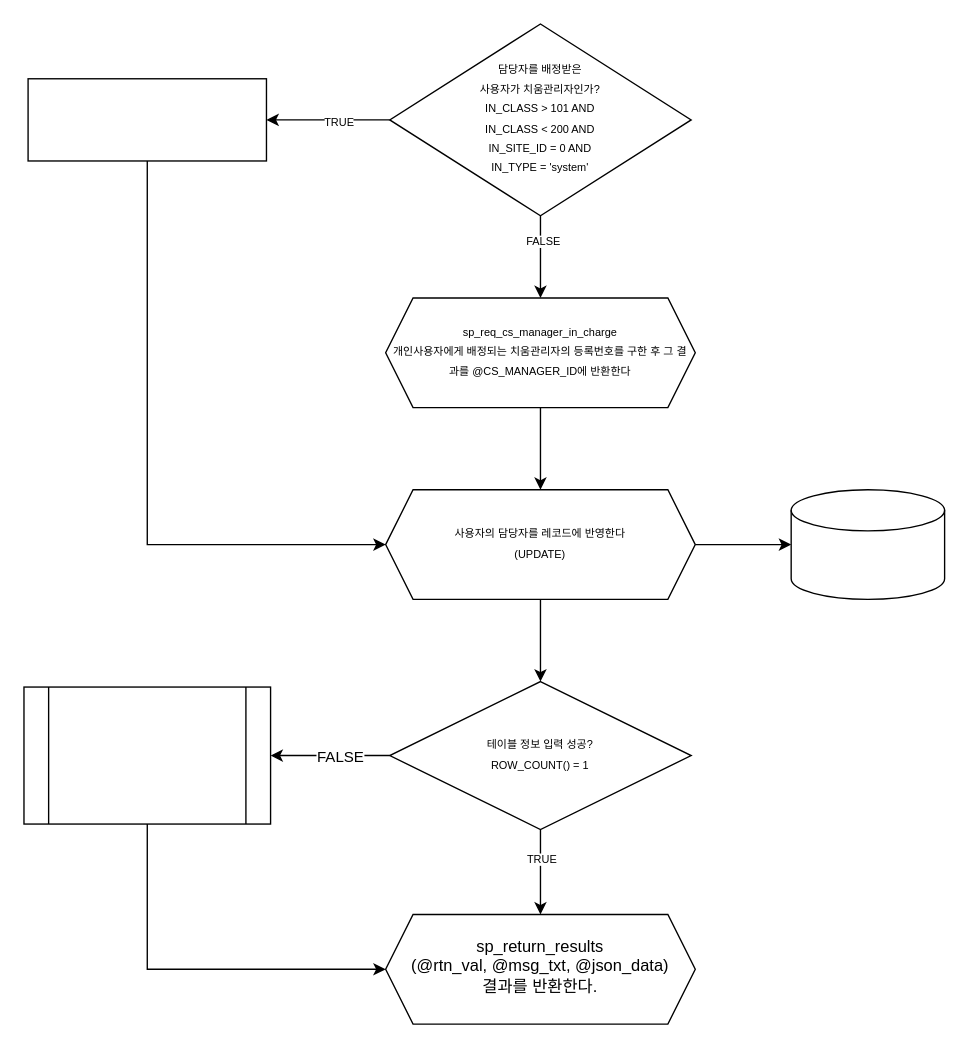
Image size: 969x1048. Some labels were removed from this diagram. The shapes that lost their labels are listed below. From the top down, each one's box as (x1, y1, x2, y2) in pixels, then its label:
(27, 77, 266, 161): @CS_MANAGER_ID = 0 관리자는 치움 최고권한자로 정한다
(790, 488, 945, 599): USERS
(23, 686, 271, 824): EXCEPTION HANDLER SQLSTATE 23000
